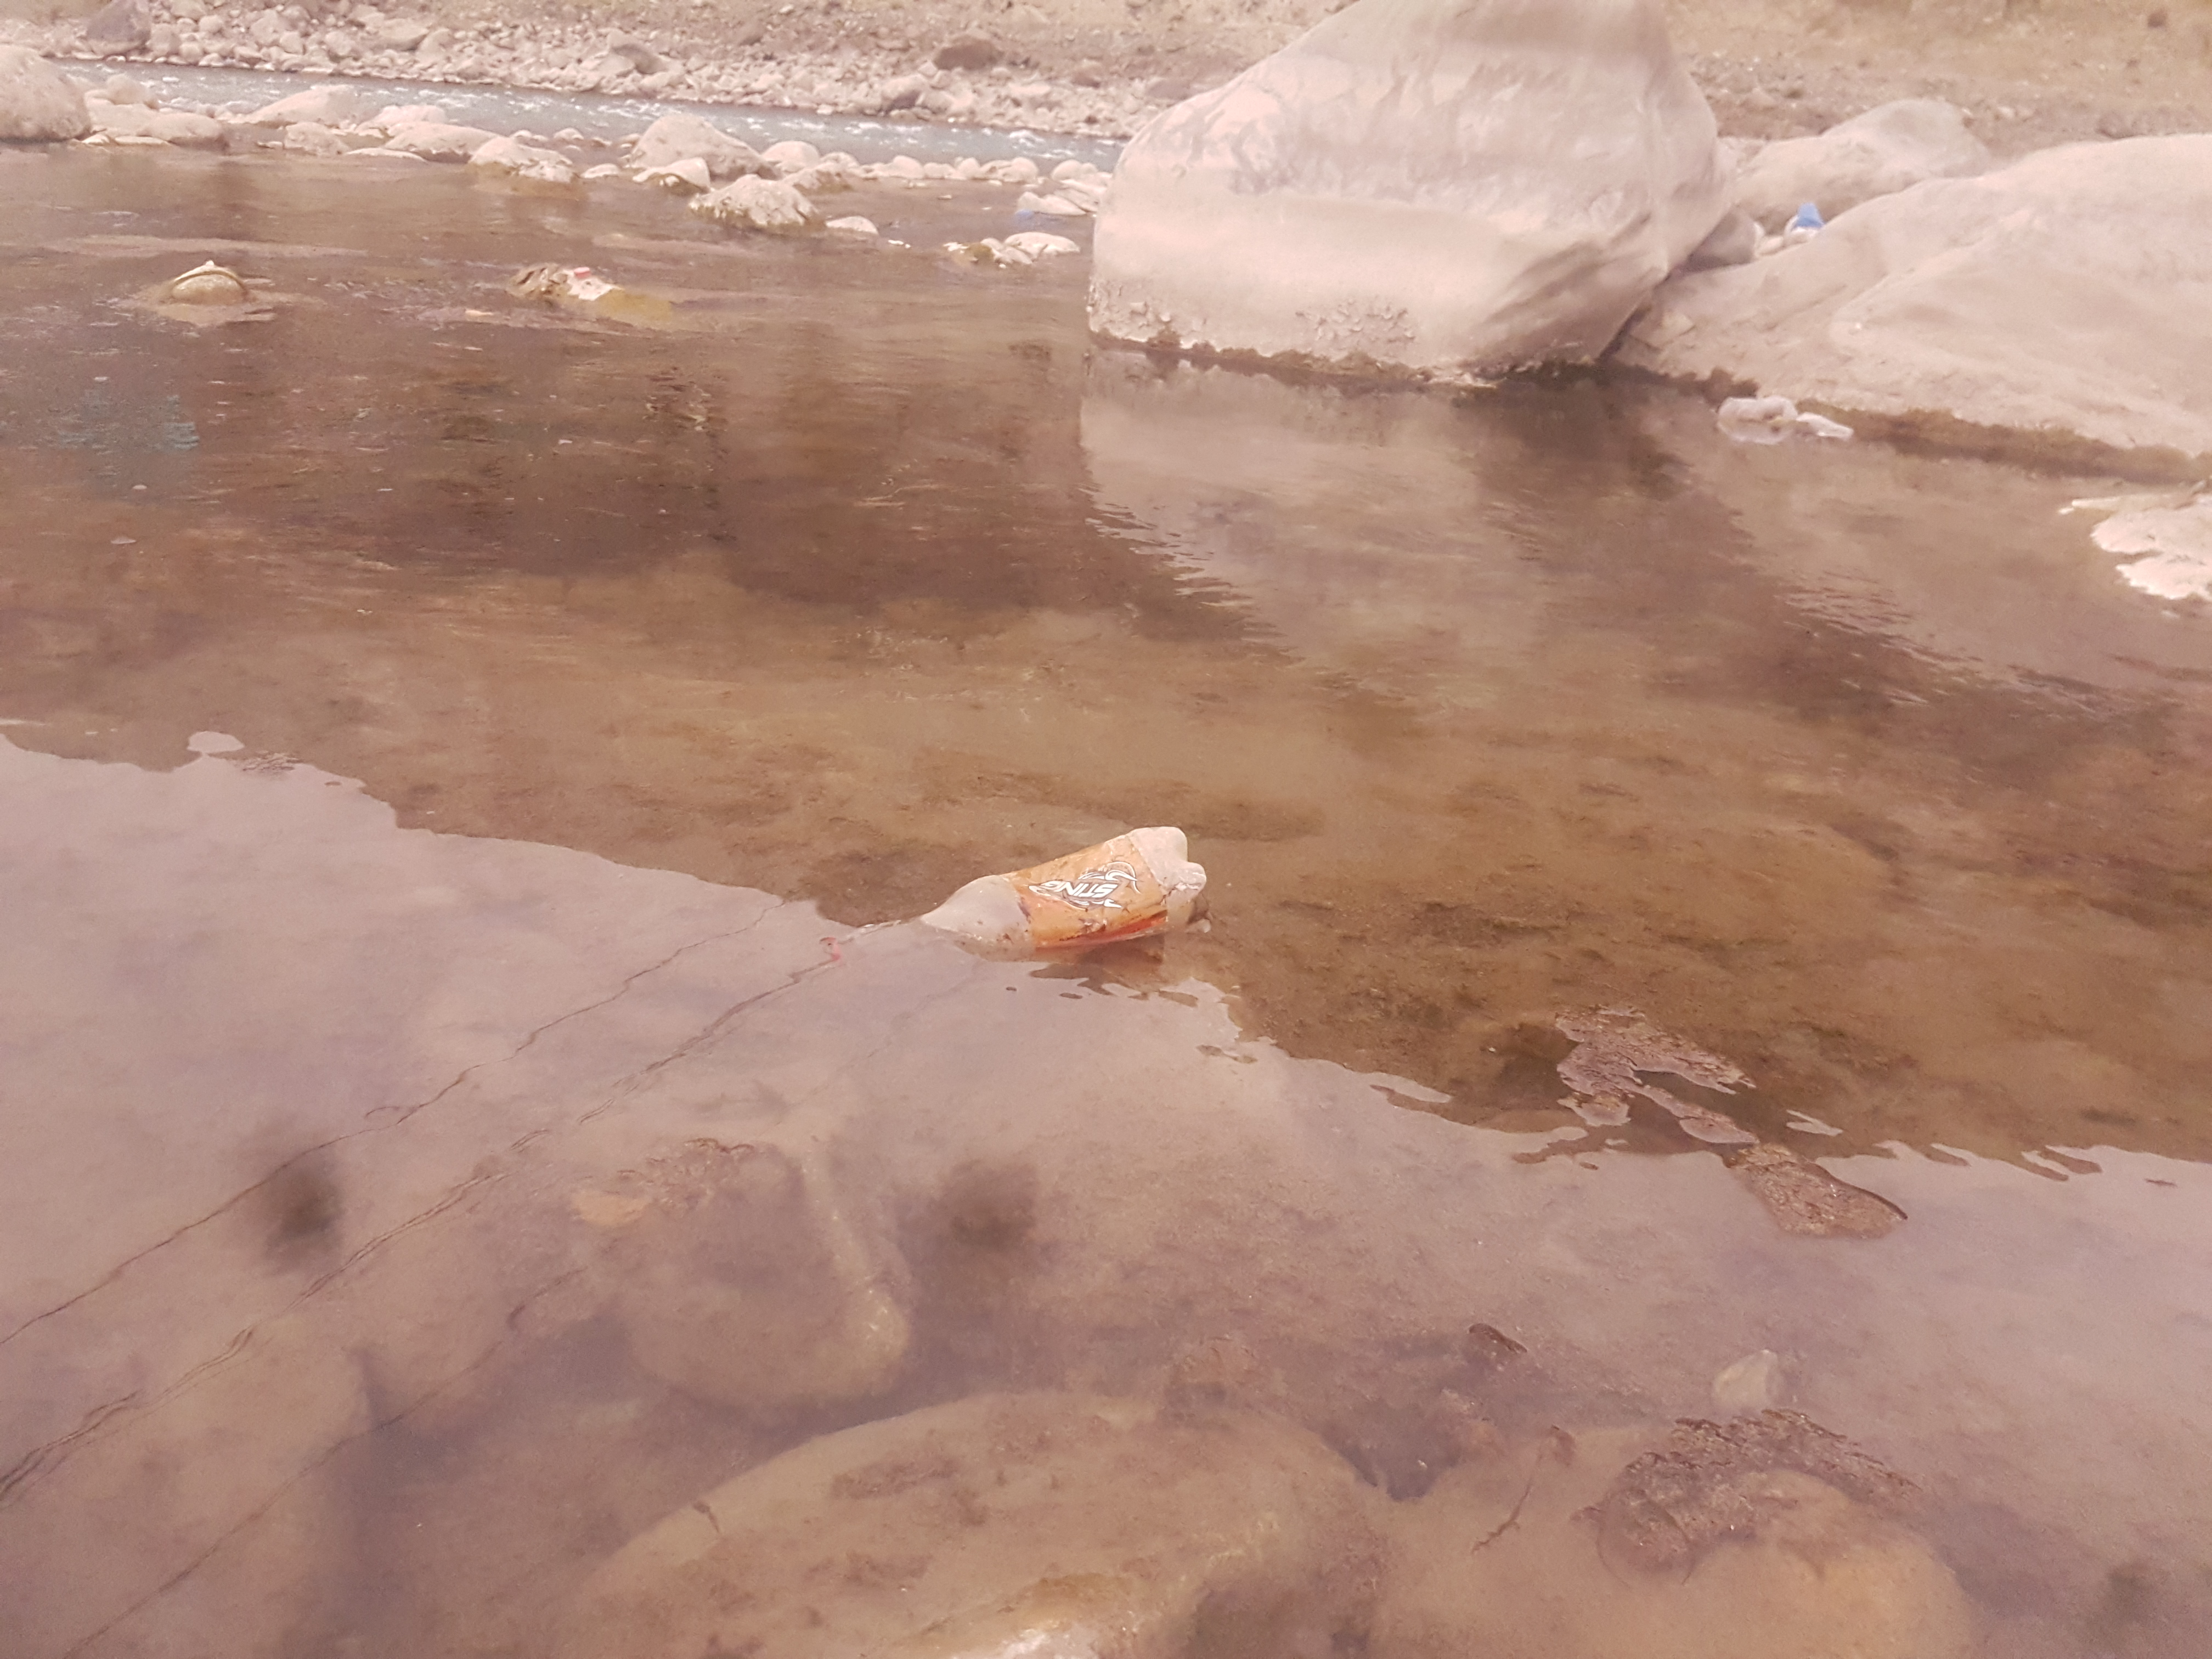Plastic Bottle: (921, 823, 1209, 948), (1015, 209, 1035, 216)
